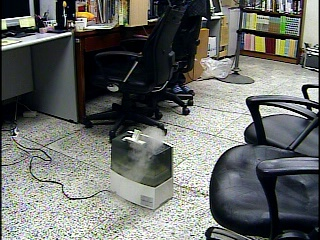smoke: (111, 126, 166, 182)
